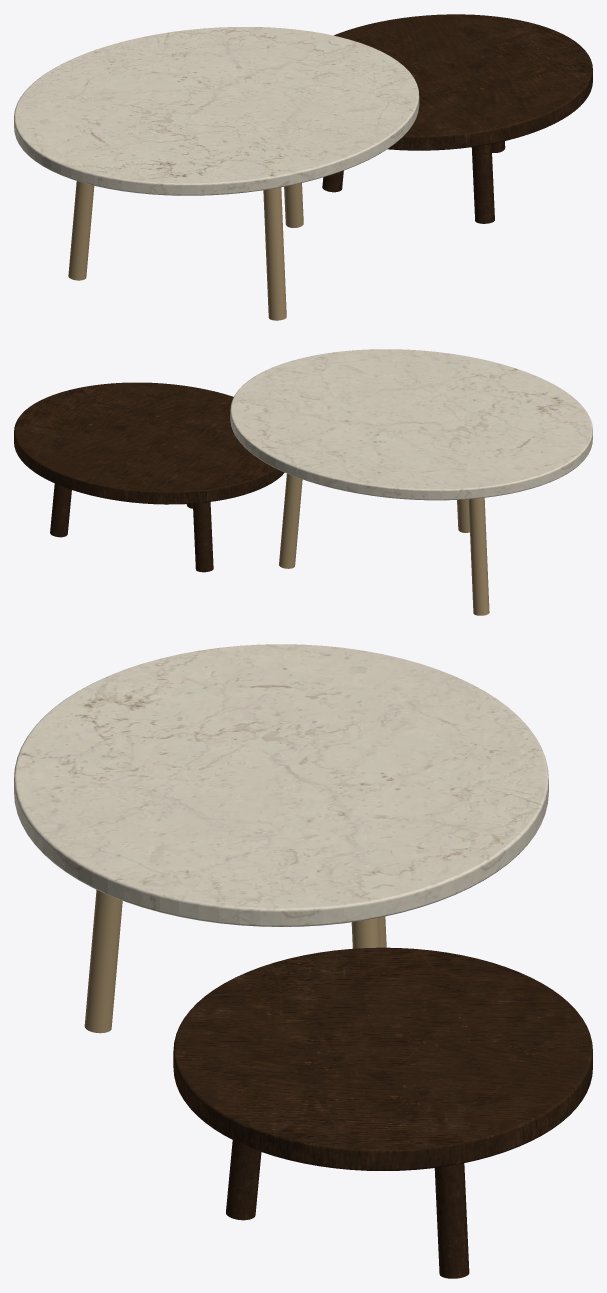
Rendered from lounge-nested-tables.glb.
3 renders of one model, top to bottom at view 1: azimuth 30°, elevation 25°; view 2: azimuth 150°, elevation 25°; view 3: azimuth 270°, elevation 25°, orthographic. The views are drawn at different scales.
Parts seen in each view (by area): view 1: stone_surfaces, walnut_surfaces, bronze_surfaces; view 2: stone_surfaces, walnut_surfaces, bronze_surfaces; view 3: stone_surfaces, walnut_surfaces, bronze_surfaces.
Boxes of the visible parts, x1,y1,x2,y2 form: stone_surfaces: (14, 27, 419, 195); walnut_surfaces: (322, 14, 592, 223); bronze_surfaces: (68, 181, 303, 320); stone_surfaces: (230, 349, 592, 500); walnut_surfaces: (14, 382, 284, 572); bronze_surfaces: (279, 473, 489, 615); stone_surfaces: (14, 644, 548, 926); walnut_surfaces: (173, 947, 592, 1278); bronze_surfaces: (84, 889, 386, 1033).
Size of the model in its own units: 1.47 by 0.4099 by 0.853.
Materials: 3 (2 with a texture image).
